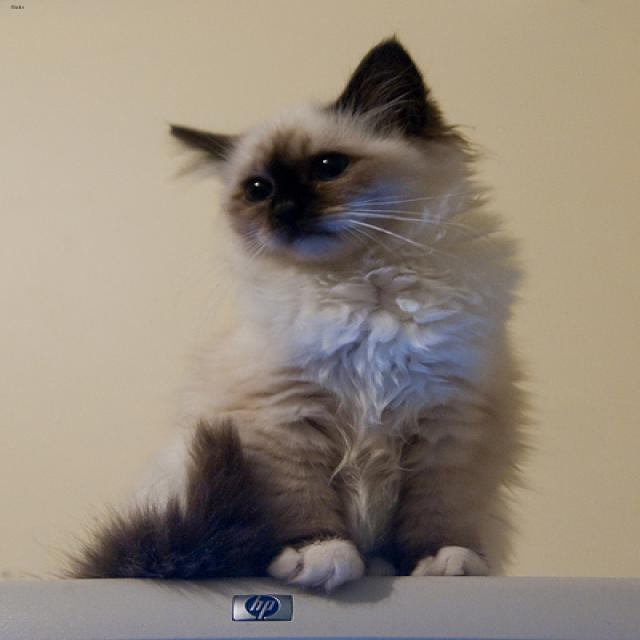Birman: (170, 37, 445, 259)
